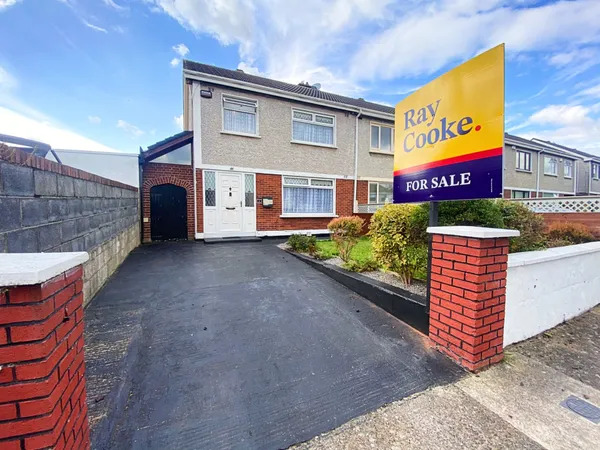property sign: (383, 40, 510, 213)
